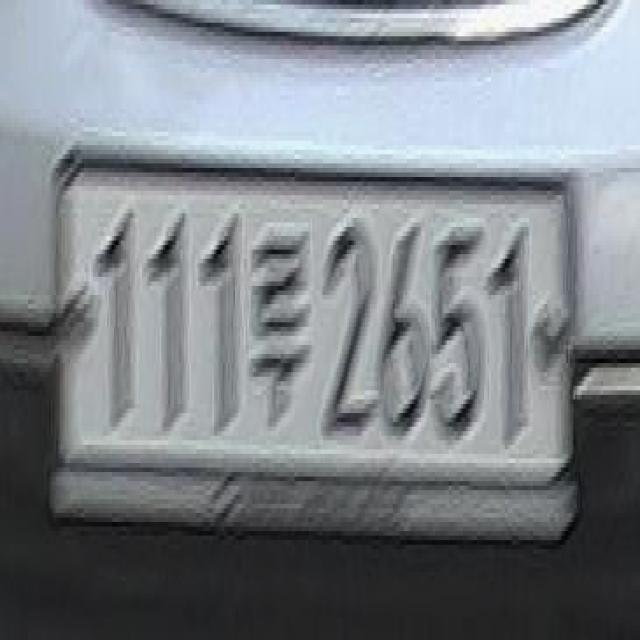illegal_plate: (50, 135, 577, 554)
